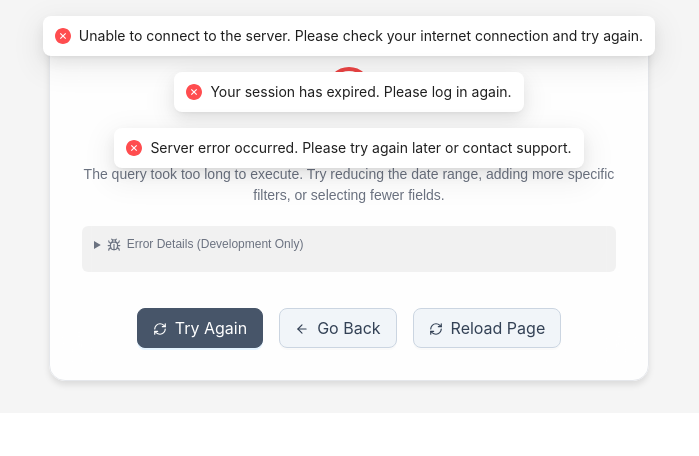
Test case: Retry Logic Comprehensive Tests › Error Boundary Retry Integration › tracks retry attempts correctly in error boundary
Note: First retry
Click the button "Try Again" at (200, 328), box [137,308,263,348]
Wait 1000 ms
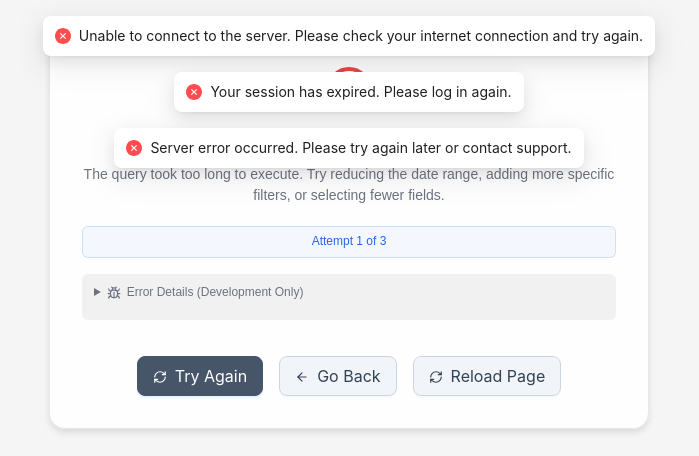
Expected: the text "Attempt 1 of 3" is shown, [82,226,616,258]
Note: Second retry
Click the button "Try Again" at (200, 376), box [137,356,263,396]
Wait 2000 ms
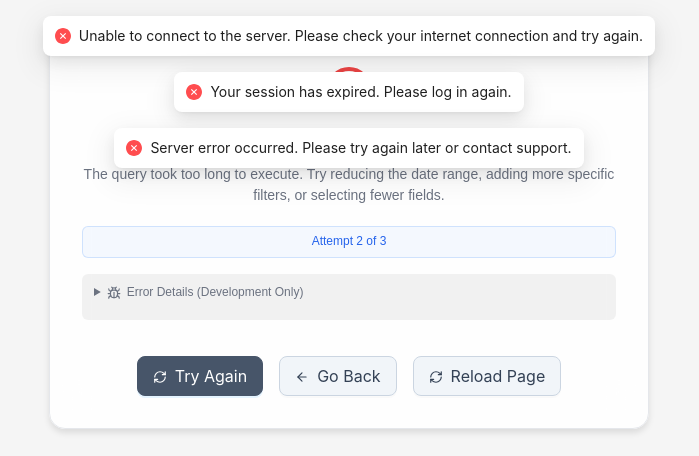
Expected: the text "Attempt 2 of 3" is shown, [82,226,616,258]
